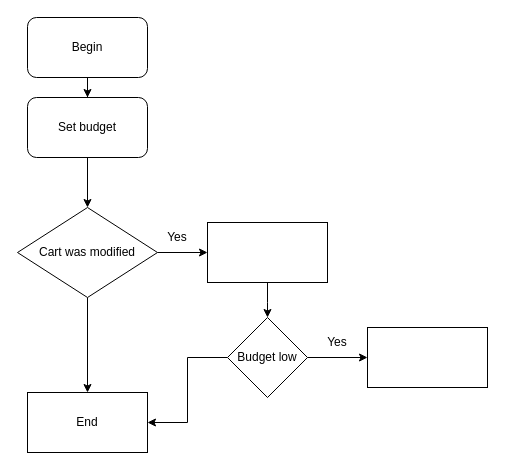
This 505x470 diagram has some shape labels left out. Here are the shapes that lost their labels. From the top down, the box of each, then its label:
(206, 222, 328, 282): Compare the current total amount with the budget
(366, 326, 488, 388): Send notification
